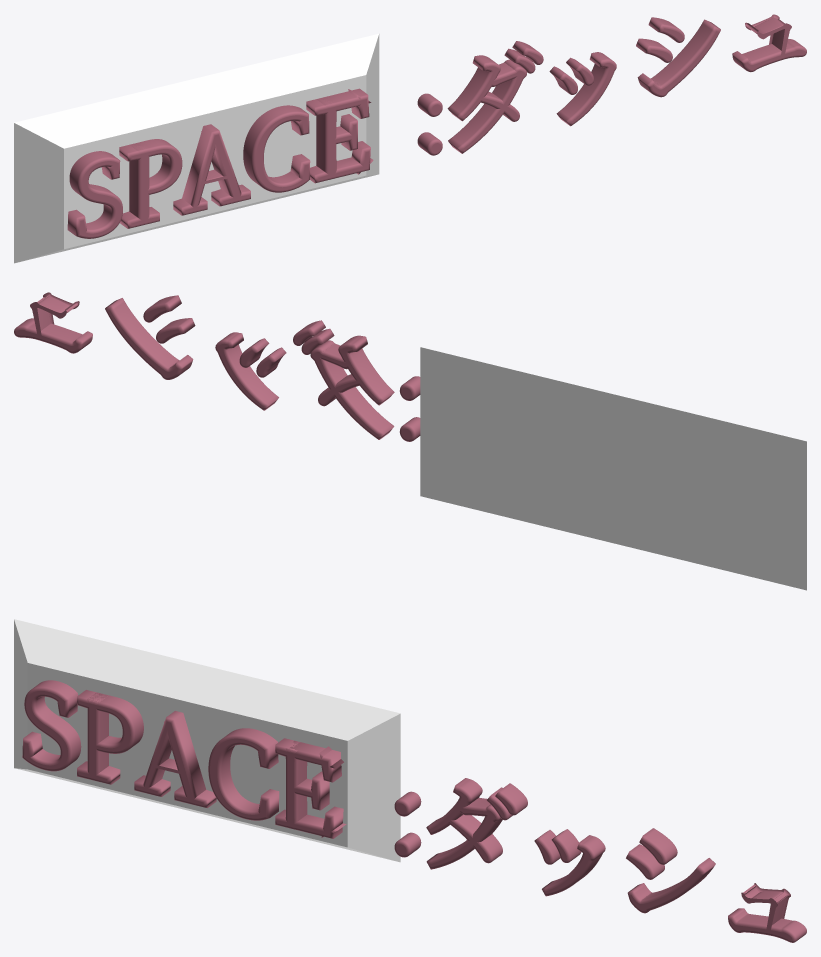
File: DashExplanation.obj
The picture shows the model from 3 angles, top to bottom: view 1: azimuth 30°, elevation 25°; view 2: azimuth 150°, elevation 25°; view 3: azimuth 330°, elevation 25°; orthographic projection. The views are drawn at different scales.
Parts seen in each view (by area): view 1: テキスト.017; view 2: テキスト.017; view 3: テキスト.017.
Boxes of the visible parts, bbox=[...] form: テキスト.017: bbox=[14, 14, 806, 263]; テキスト.017: bbox=[14, 292, 806, 590]; テキスト.017: bbox=[14, 619, 806, 942].
Bounding box in the file's own units: 2.89 × 0.5079 × 0.1849.
